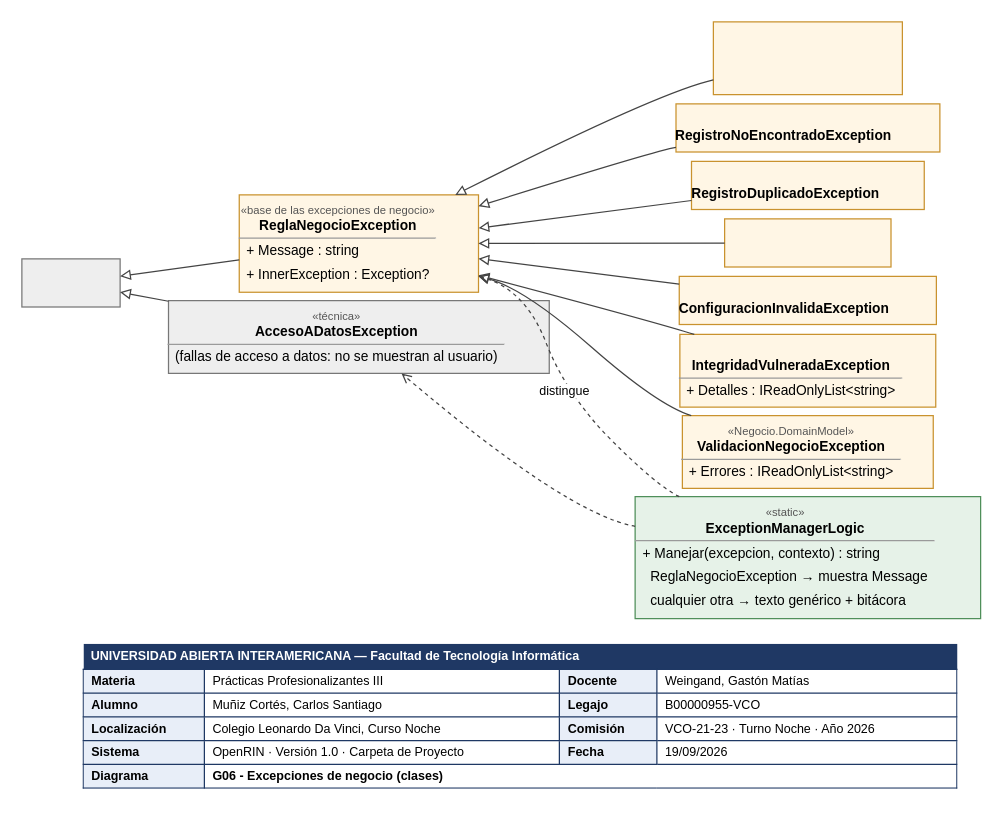
Image size: 1003x836. Some labels were removed from this diagram. Here are the shapes that lost their labels. From the top down, the centre of each, then its label:
At (807,58): "DatoInvalidoException + Campo : string".
At (807,242): "RespaldoException".
At (70,282): "«System» Exception".
